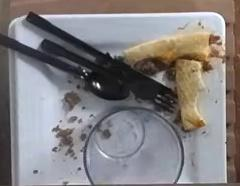pizza_crust: (126, 32, 225, 131)
